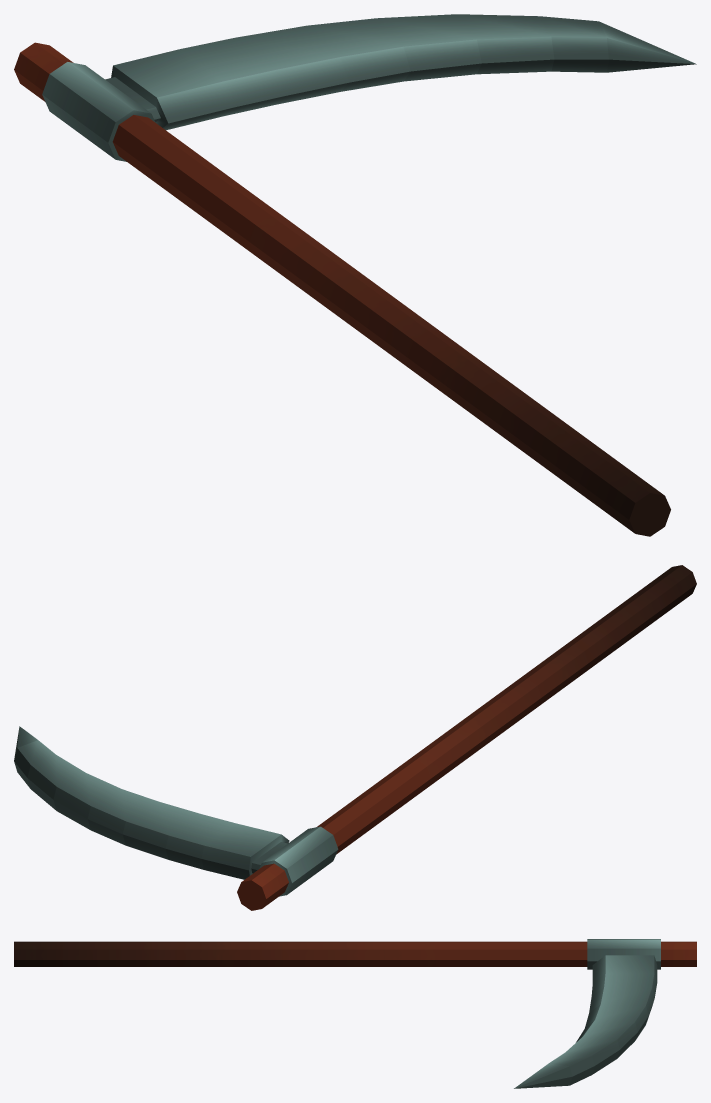
File: FBX_Scythe.fbx
3 views of the same model, one above another, from view 1: azimuth 30°, elevation 25°; view 2: azimuth 150°, elevation 25°; view 3: azimuth 270°, elevation 25° (orthographic). The views are drawn at different scales.
Visible parts, largest first — view 1: M_Scythe; view 2: M_Scythe; view 3: M_Scythe.
Boxes of the visible parts, x1=… form: M_Scythe: x1=14, y1=14, x2=696, y2=536; M_Scythe: x1=14, y1=565, x2=696, y2=910; M_Scythe: x1=14, y1=939, x2=696, y2=1088.
Size of the model in its own units: 0.8793 by 0.0854 by 1.79.
